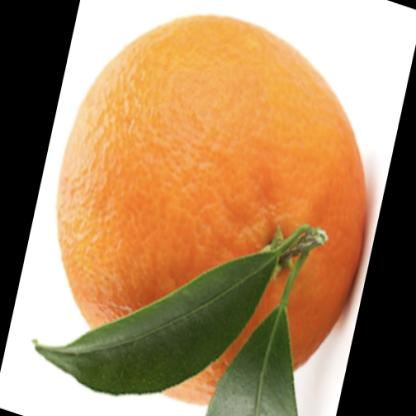fresh: (60, 16, 368, 415)
